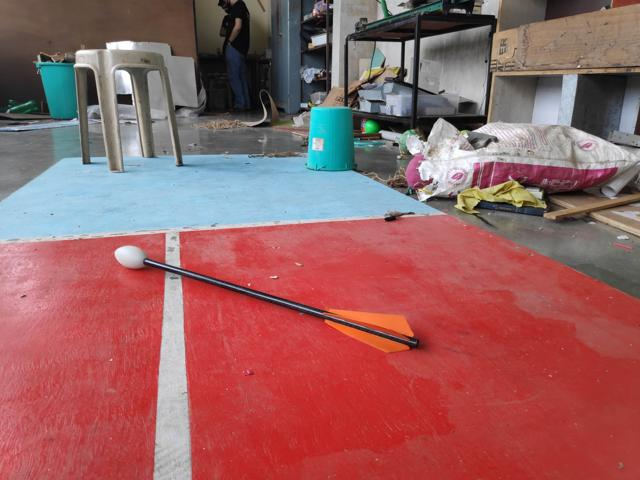Head: (112, 243, 148, 271)
Tail: (316, 305, 422, 356)
